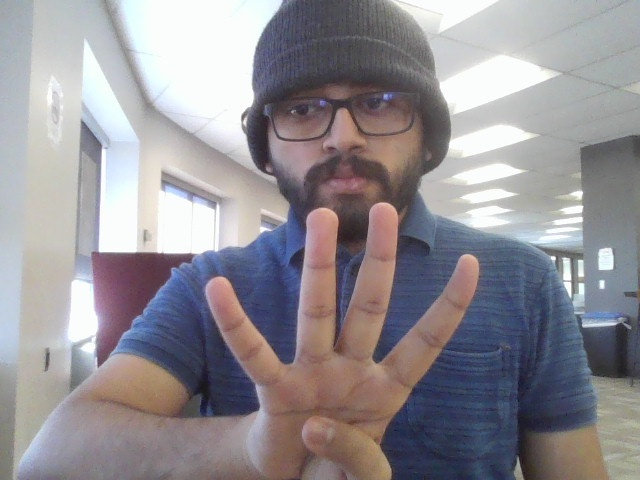start: (212, 196, 483, 480)
